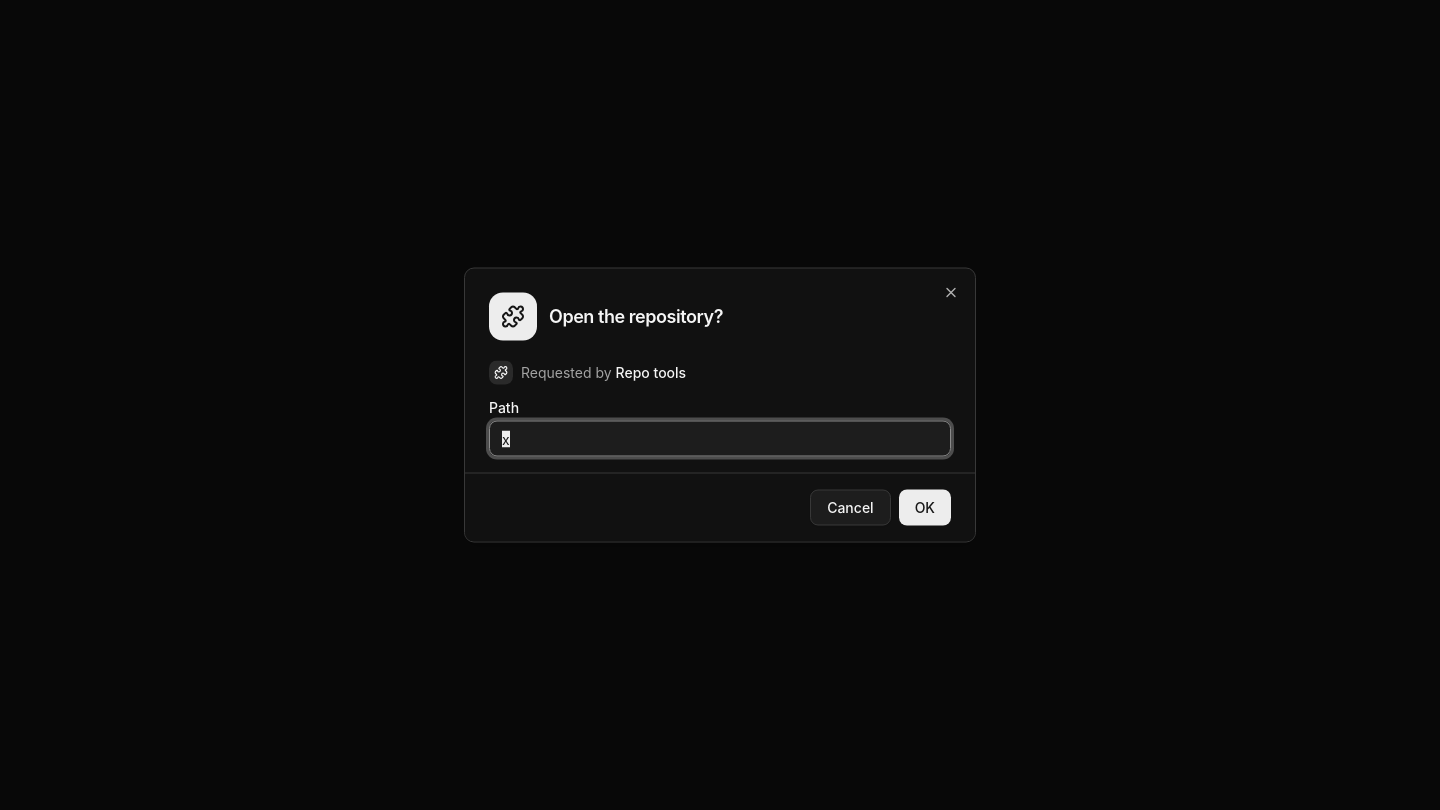
Test case: the plugin dialog host › keeps a form open with the agent's refusal
What coordinates should you click on to do the following:
click the button "OK"
I would click on:
 (925, 508)
Its box is 899,490 -> 951,526.
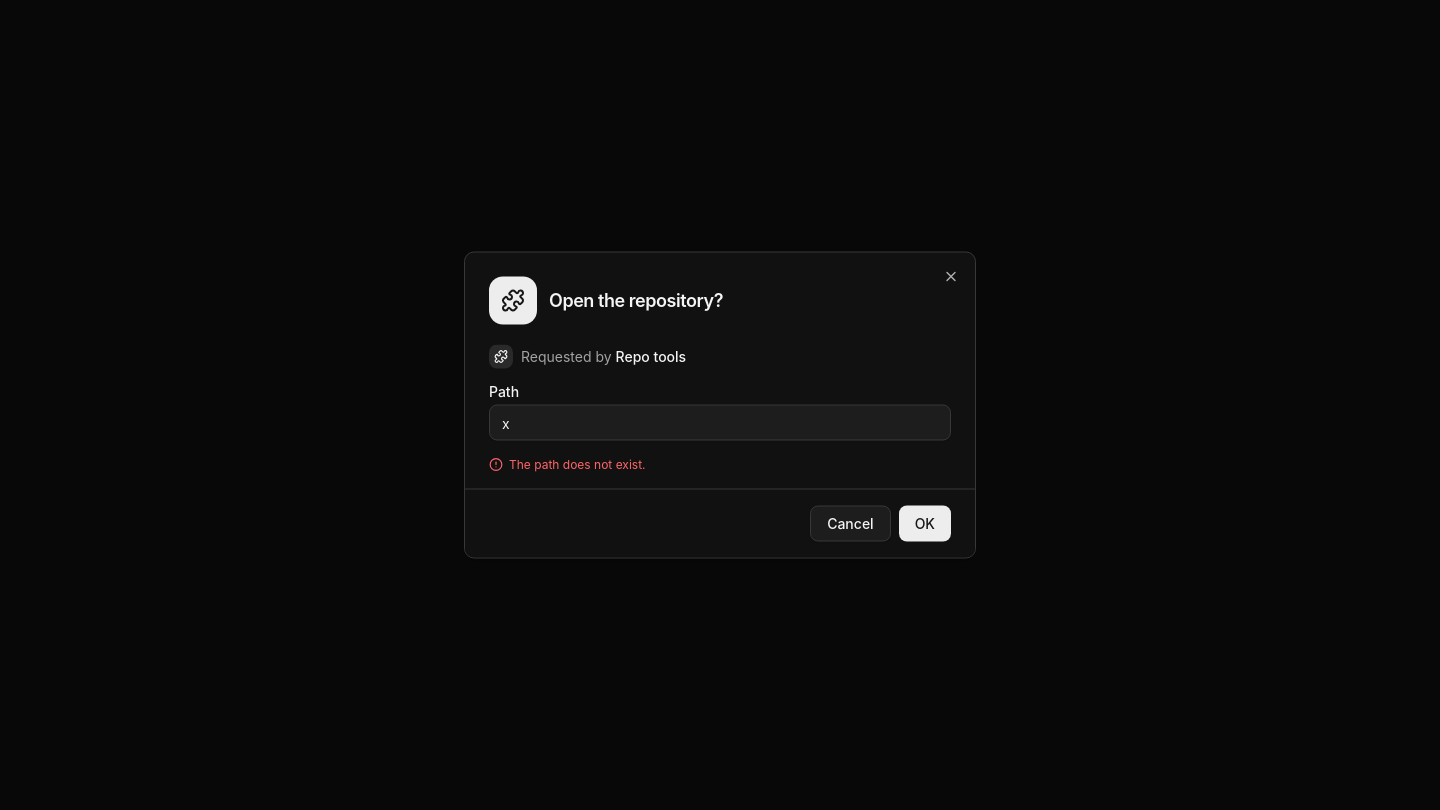
Check: the dialog is shown, box 464,252 -> 976,558
Check: the text "The path does not exist." is shown, box 509,456 -> 646,472
